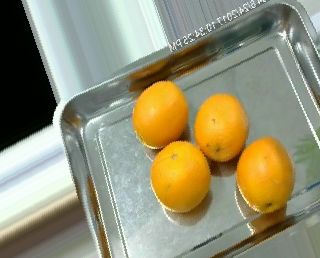Orange: (235, 138, 296, 214), (147, 140, 210, 212), (193, 92, 248, 162), (132, 80, 188, 148)
